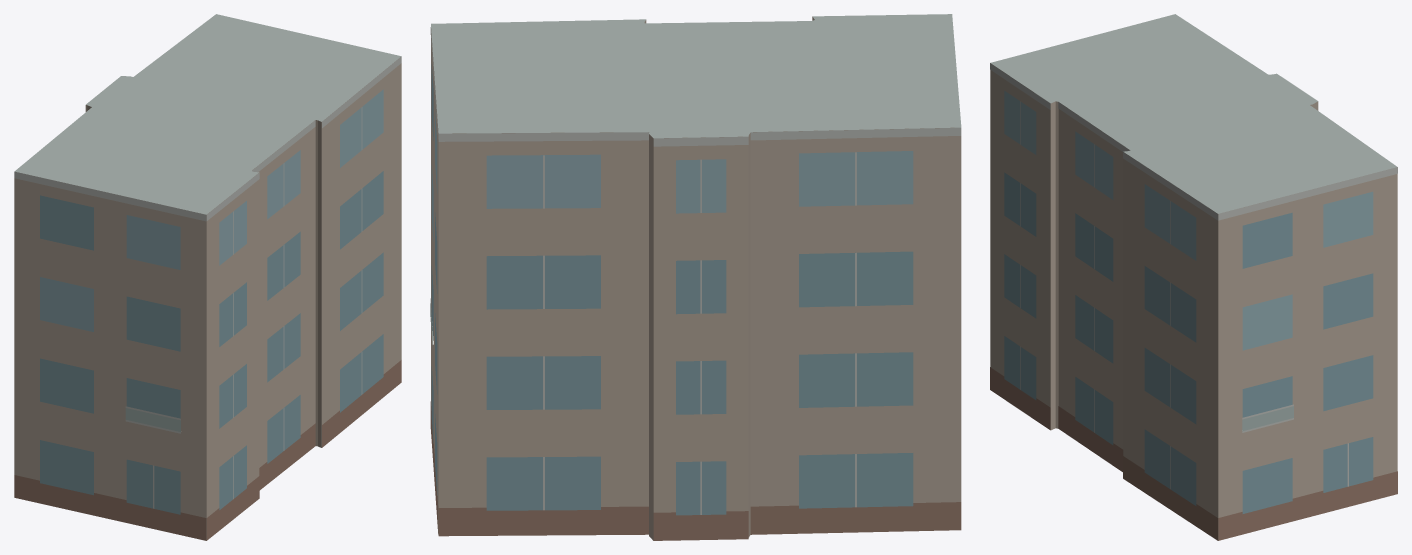
The model's file is survey-upis-32888258.glb.
3 renders of one model, left to right at view 1: azimuth 30°, elevation 25°; view 2: azimuth 150°, elevation 25°; view 3: azimuth 270°, elevation 25°, orthographic. The views are drawn at different scales.
Visible parts, largest first — view 1: survey-upis-32888258.tmp; view 2: survey-upis-32888258.tmp; view 3: survey-upis-32888258.tmp.
Boxes of the visible parts, box(x1,y1,x2,y2) form: survey-upis-32888258.tmp: box(14, 14, 401, 540); survey-upis-32888258.tmp: box(430, 14, 961, 540); survey-upis-32888258.tmp: box(990, 14, 1397, 540).
Size of the model in its own units: 15.48 by 11.8 by 13.34.
